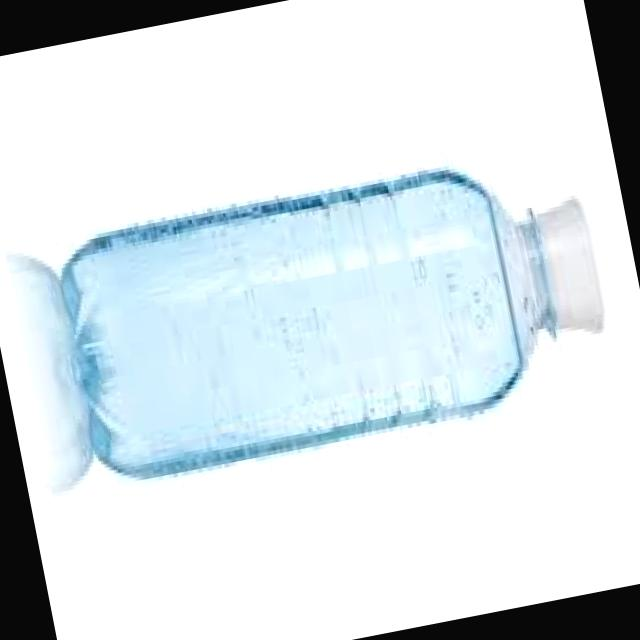bottle: (61, 170, 603, 477)
plastic: (61, 169, 556, 477), (536, 198, 603, 332)
